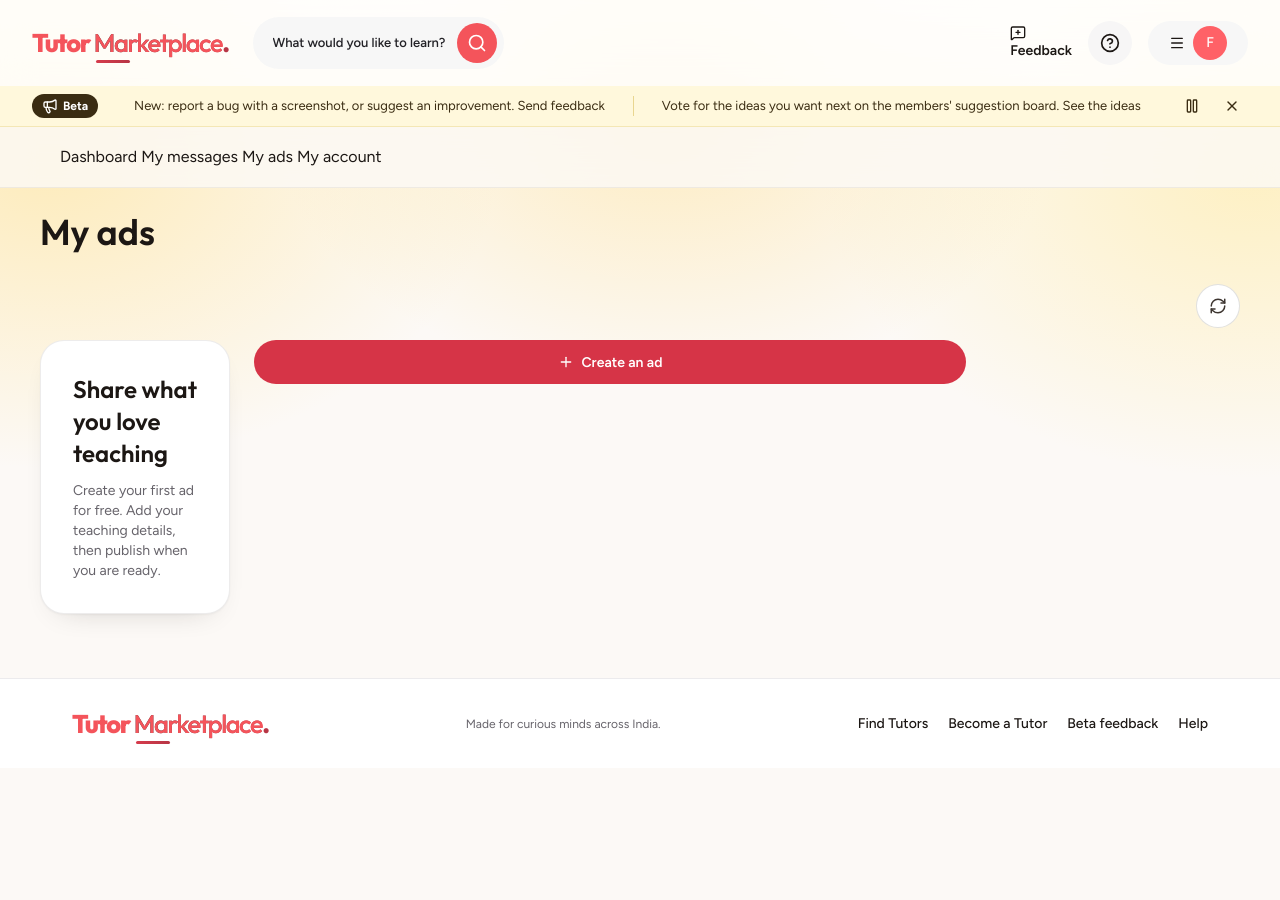
My ads opens one creation form (existing ad: false), not ten steps
Click the button "Create an ad" at (610, 362), box [254,340,966,384]
(page scrolled)
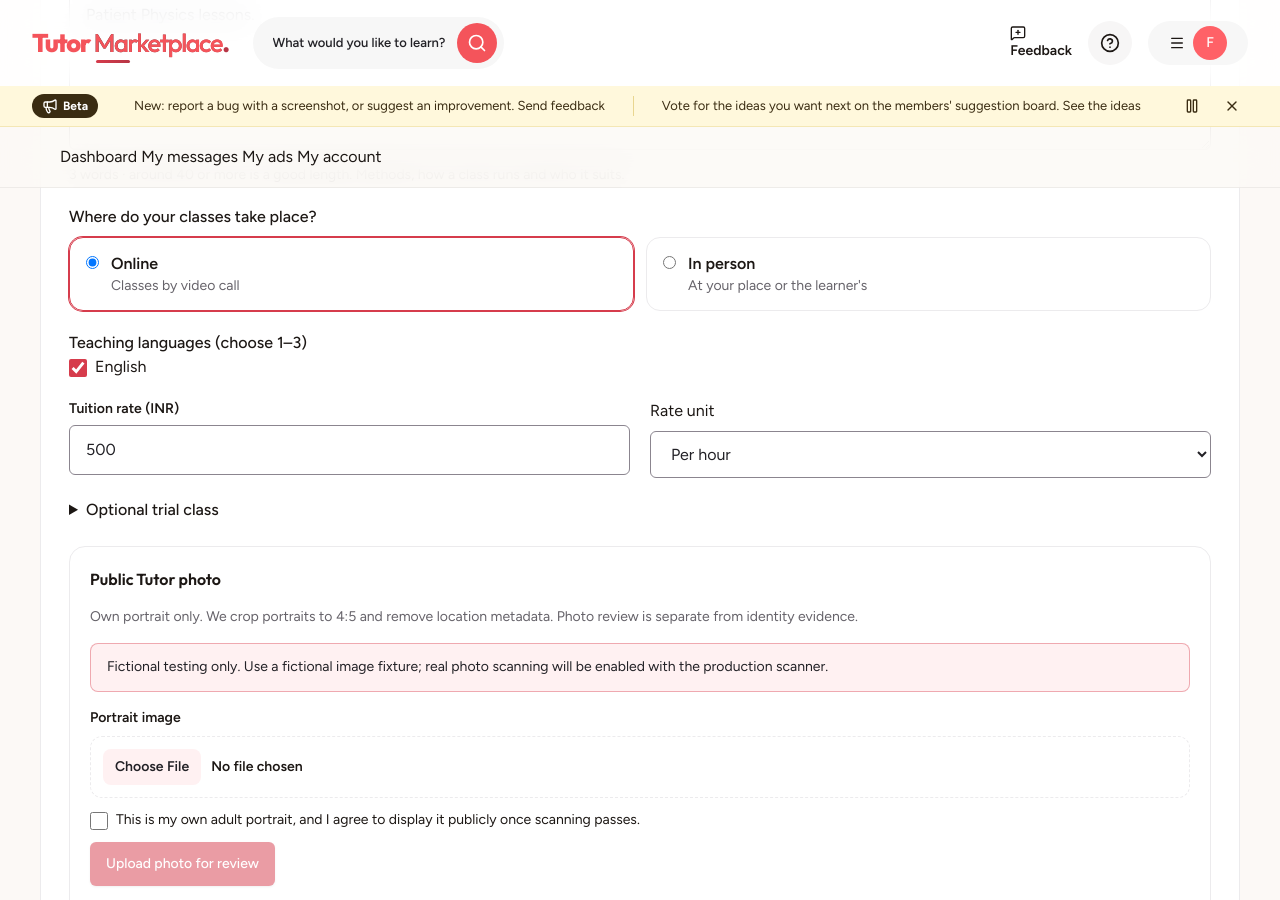
Expected: the number field labelled "Tuition rate (INR)" is shown, [69,425,630,475]
